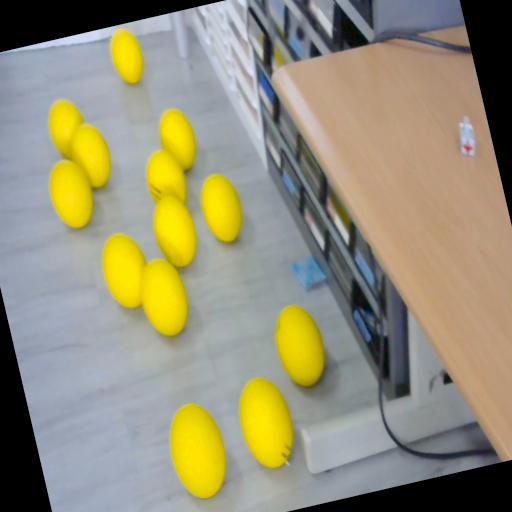FUEL: (159, 396, 235, 503), (230, 371, 302, 474), (267, 297, 332, 391), (132, 253, 196, 341), (95, 228, 155, 314), (146, 190, 204, 270), (43, 155, 100, 234), (194, 169, 248, 245), (65, 118, 118, 194), (154, 104, 202, 174), (105, 24, 148, 87)
